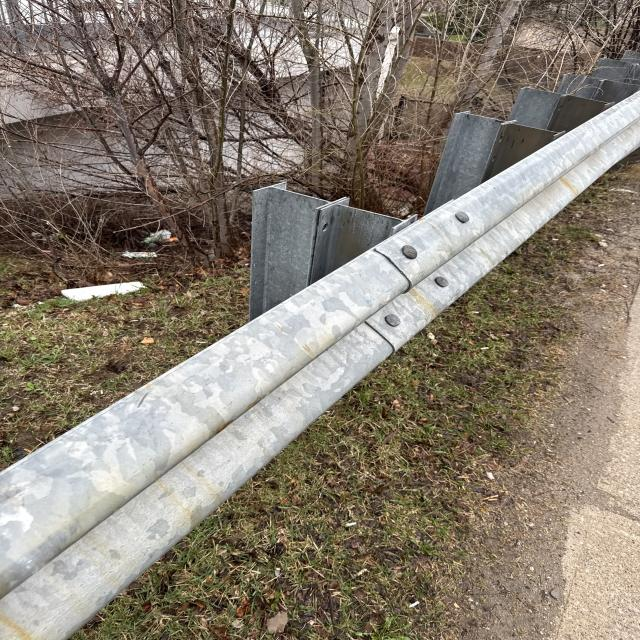Guard rail: (261, 104, 640, 314)
